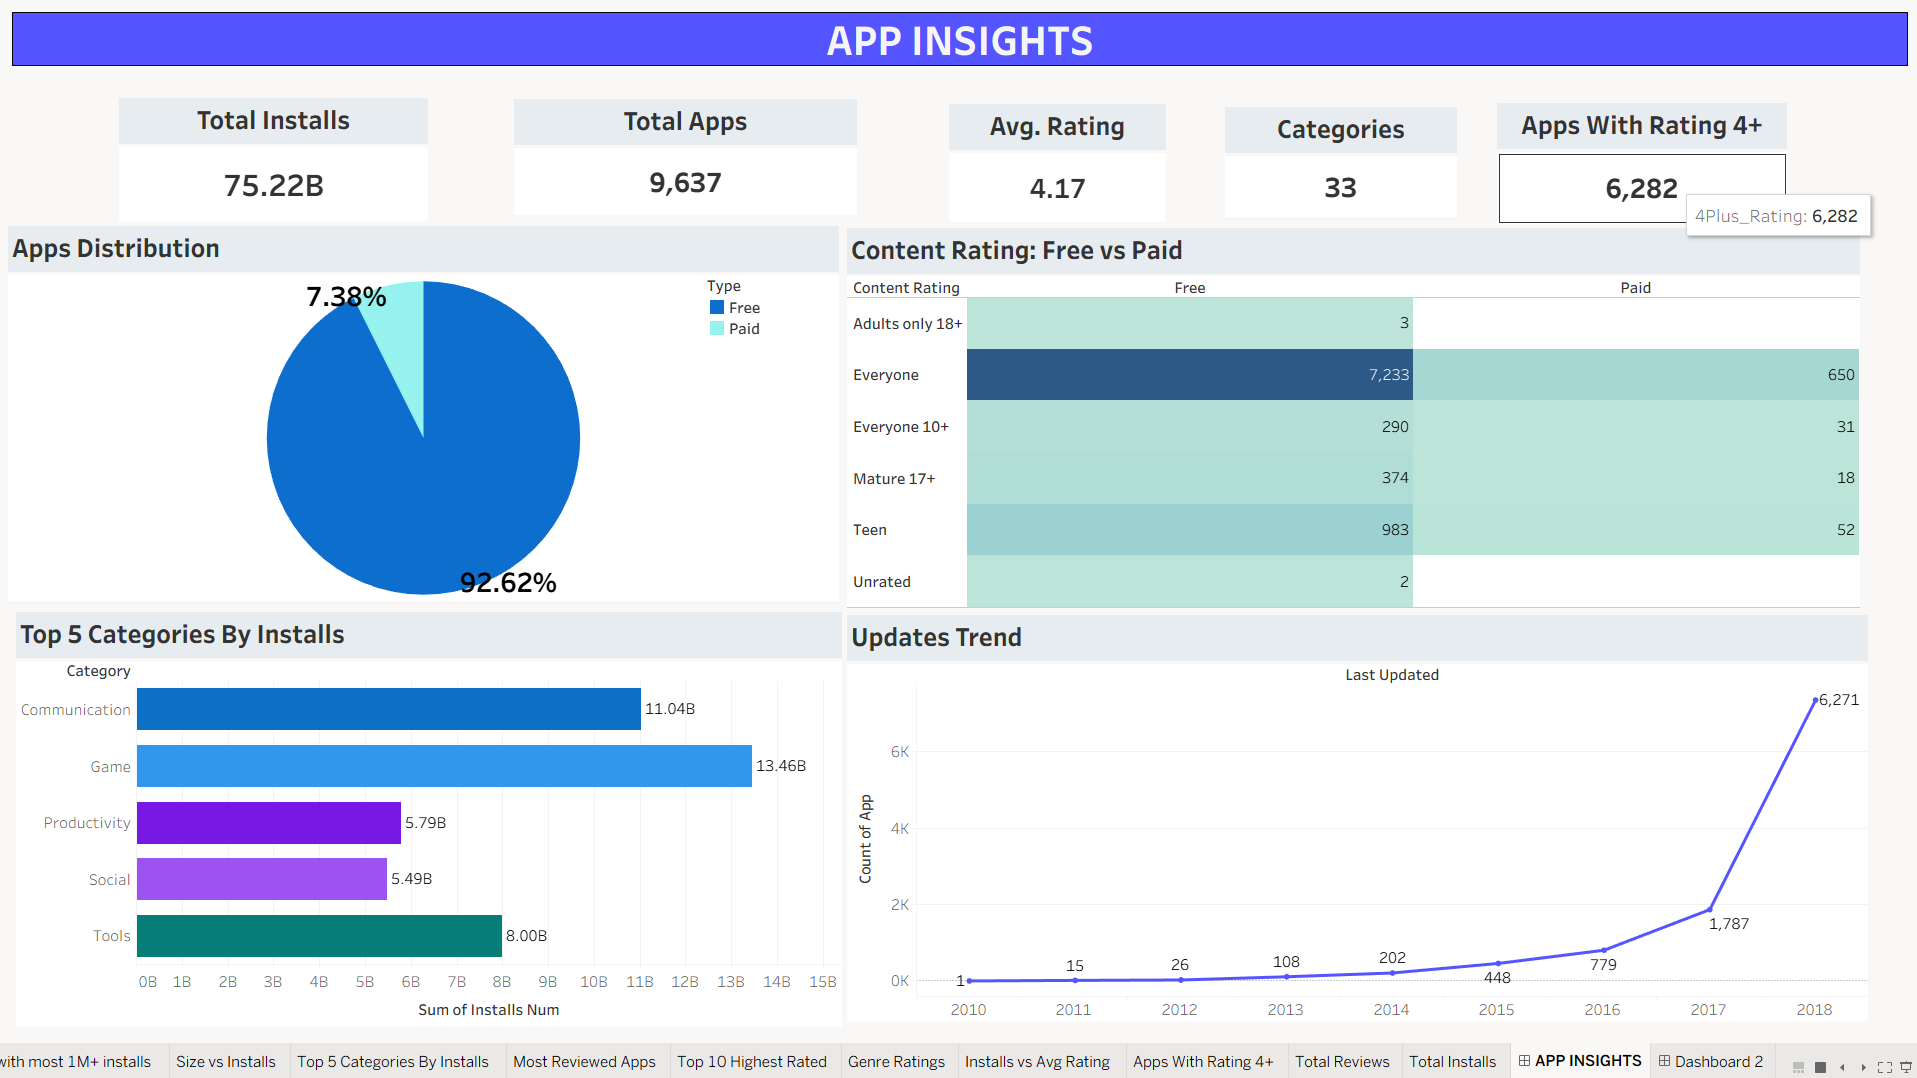

The dashboard page shown, as its layout file describes it:
{"tool":"tableau","page":{"name":"APP INSIGHTS","canvas":[1000,1000],"units":"permille","ordinal":0},"visuals":[{"type":"title","box":[4.8,9.4,990.3,72.9]},{"type":"worksheet","title":"Total Installs","mark":"Automatic","box":[62.2,94,161.1,117.5]},{"type":"worksheet","title":"Total Apps","mark":"Automatic","box":[267.9,95.2,178.6,111.6]},{"type":"worksheet","title":"Apps With Rating 4+","mark":"Text","box":[779.7,98.7,150.9,116.3]},{"type":"worksheet","title":"Avg. Rating","mark":"Automatic","box":[494.3,99.9,112.9,112.8]},{"type":"worksheet","title":"Categories","mark":"Automatic","box":[637.9,102.2,120.7,105.8]},{"type":"worksheet","title":"Apps Distribution","mark":"Pie","box":[4.2,216.2,432.7,359.6]},{"type":"worksheet","title":"Content Rating: Free vs Paid","mark":"Square","rows":["Content Rating"],"cols":["Type"],"box":[441.2,218.6,527.5,364.3]},{"type":"legend","title":"Apps Distribution","param":"[federated.0gwnit21xouwcy1go0bhh0qgyihv].[none:Type:nk]","box":[368.1,263.2,59.8,99.9]},{"type":"worksheet","title":"Top 5 Categories By Installs","mark":"Automatic","rows":["Category"],"cols":["Installs_Num"],"box":[8.4,586.4,430.3,398.4]},{"type":"worksheet","title":"Updates Trend","mark":"Line","rows":["App"],"cols":["Last Updated"],"box":[441.2,589.9,531.7,388.9]}]}

Visuals, with their boxes on the dashboard's canvas, which has no fixed pixel size, in thousandths of its width and height (x1, y1, x2, y2). These are canvas units, not pixel positions in the 1917x1078 screenshot, which may show the page scaled, cropped or inside an application window:
title: 5,9,995,82
"Total Installs" worksheet: 62,94,223,212
"Total Apps" worksheet: 268,95,446,207
"Apps With Rating 4+" worksheet (Text marks): 780,99,931,215
"Avg. Rating" worksheet: 494,100,607,213
"Categories" worksheet: 638,102,759,208
"Apps Distribution" worksheet (Pie marks): 4,216,437,576
"Content Rating: Free vs Paid" worksheet (Square marks): 441,219,969,583
"Apps Distribution" legend: 368,263,428,363
"Top 5 Categories By Installs" worksheet: 8,586,439,985
"Updates Trend" worksheet (Line marks): 441,590,973,979
